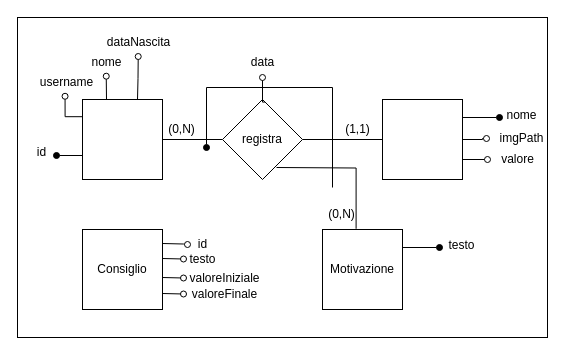
This 574x355 diagram has some shape labels left out. The centre of each missing label's shape, as x and y in pixels:
Emozione: the point at 422,139
Utente: the point at 122,139
